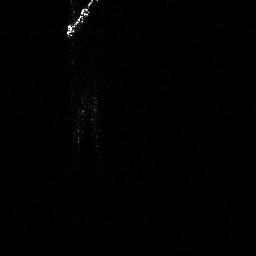ship: (62, 1, 103, 42)
